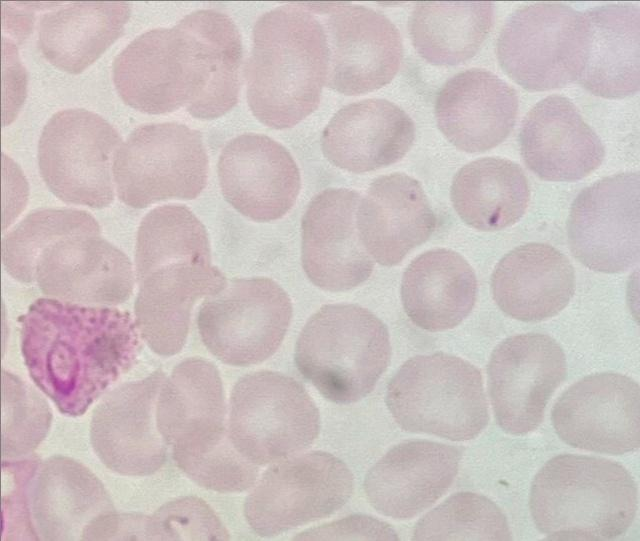Infected: (21, 300, 141, 418)
Uninfected: (156, 358, 246, 479), (243, 9, 332, 128), (292, 303, 390, 404), (92, 368, 181, 477), (243, 448, 351, 536), (223, 369, 320, 466), (528, 453, 637, 538), (386, 352, 488, 442), (133, 261, 228, 356), (36, 107, 125, 208), (113, 26, 211, 117), (197, 276, 294, 367), (486, 332, 570, 437), (112, 120, 211, 208), (363, 438, 465, 522), (498, 4, 592, 93), (300, 188, 380, 288), (316, 6, 403, 95), (351, 173, 436, 264), (34, 230, 134, 307), (549, 371, 640, 455), (567, 169, 639, 273), (217, 133, 301, 221), (434, 70, 519, 153), (321, 99, 414, 174), (27, 456, 110, 540), (133, 201, 217, 284), (520, 94, 600, 181), (490, 241, 572, 322), (399, 247, 478, 331), (38, 2, 131, 73), (573, 2, 638, 98), (450, 156, 530, 232), (409, 3, 497, 68)
